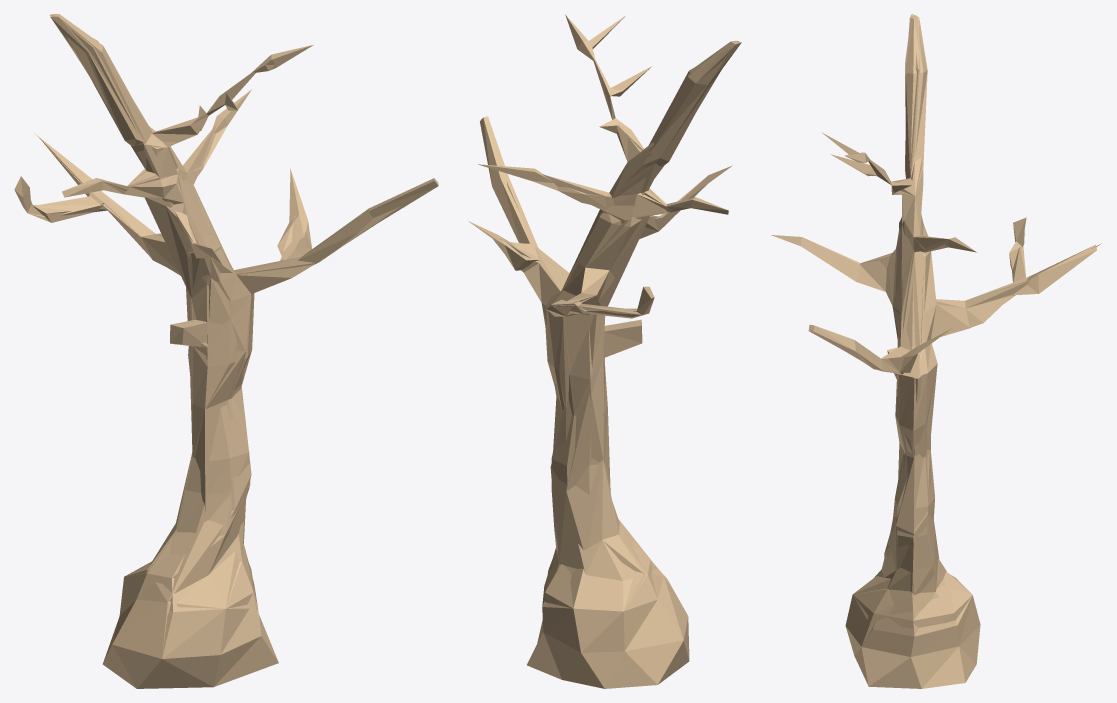
File: Tree_03.fbx
3 renders of one model, left to right at view 1: azimuth 30°, elevation 25°; view 2: azimuth 150°, elevation 25°; view 3: azimuth 270°, elevation 25°, orthographic. The views are drawn at different scales.
Parts seen in each view (by area): view 1: Tree_03_0, Tree_03_1; view 2: Tree_03_0, Tree_03_1; view 3: Tree_03_0, Tree_03_1.
Part boxes in pixels (box(x1,y1,x2,y2)): Tree_03_0: box(14, 14, 438, 688); Tree_03_1: box(25, 15, 400, 658); Tree_03_0: box(468, 14, 741, 688); Tree_03_1: box(500, 41, 738, 639); Tree_03_0: box(771, 14, 1096, 688); Tree_03_1: box(845, 15, 1101, 656).
Bounding box in the file's own units: 623 × 1218 × 626.
